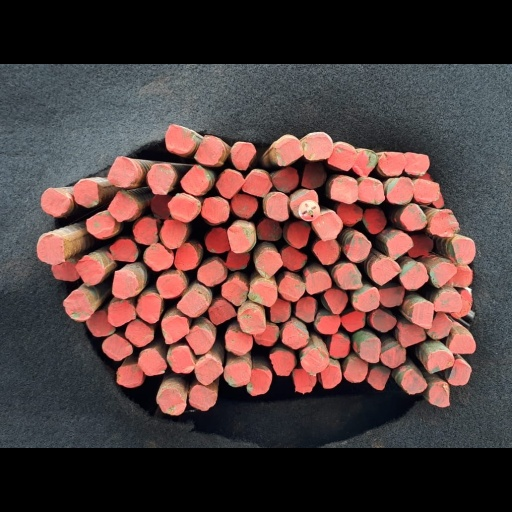dipstick: (63, 289, 93, 322), (107, 156, 138, 187), (193, 134, 223, 166), (108, 191, 138, 222), (176, 289, 208, 318), (75, 255, 105, 285), (169, 193, 200, 222), (40, 187, 70, 216), (36, 234, 65, 264), (180, 165, 209, 195), (185, 326, 214, 355), (165, 124, 194, 153), (147, 164, 175, 194), (143, 243, 173, 271), (137, 347, 167, 375), (429, 209, 459, 237), (242, 170, 273, 197), (302, 133, 333, 160), (159, 219, 187, 248), (161, 315, 189, 344), (166, 345, 195, 373), (216, 170, 244, 199), (274, 138, 303, 166), (290, 189, 318, 218), (371, 257, 400, 285), (399, 261, 427, 290), (86, 310, 116, 337), (135, 293, 162, 323), (125, 320, 155, 347), (312, 212, 342, 239), (102, 334, 133, 360), (255, 251, 283, 279), (157, 388, 186, 415), (194, 357, 223, 384), (197, 260, 227, 286), (112, 270, 139, 298), (330, 176, 358, 203), (224, 330, 253, 356), (248, 281, 277, 307), (264, 192, 290, 221), (345, 233, 370, 263), (357, 178, 384, 205), (387, 177, 414, 204), (425, 312, 452, 339), (107, 301, 135, 327), (221, 278, 247, 306), (228, 224, 254, 252), (271, 166, 299, 192), (277, 276, 305, 302), (329, 143, 355, 171), (385, 233, 413, 259), (208, 300, 237, 325), (86, 214, 116, 238), (73, 180, 99, 207), (238, 308, 265, 334), (335, 263, 362, 289), (400, 204, 427, 230), (429, 261, 456, 287), (189, 385, 217, 410), (201, 197, 229, 222), (301, 348, 329, 373), (246, 369, 272, 395), (449, 238, 475, 264), (174, 243, 199, 270), (282, 324, 309, 349), (231, 193, 258, 218), (286, 221, 311, 248), (352, 149, 377, 176), (379, 151, 406, 176), (352, 286, 379, 311), (231, 142, 255, 170), (156, 274, 185, 297), (116, 364, 145, 387), (313, 239, 339, 264), (300, 163, 325, 189), (371, 308, 397, 333), (133, 217, 157, 244), (447, 358, 471, 385), (223, 363, 251, 386), (426, 350, 454, 373), (205, 227, 229, 253), (281, 246, 307, 270), (413, 178, 439, 202), (401, 369, 427, 393), (380, 344, 406, 368), (399, 324, 426, 347), (110, 239, 138, 261), (411, 302, 433, 330), (434, 290, 462, 312), (269, 351, 294, 375), (408, 233, 433, 257), (256, 218, 282, 241), (324, 289, 347, 315), (336, 202, 362, 225), (344, 358, 368, 382), (306, 271, 331, 294), (363, 208, 386, 233), (404, 152, 429, 175), (253, 324, 279, 346), (448, 264, 473, 286), (270, 297, 291, 323), (295, 296, 316, 322), (51, 261, 79, 280), (293, 368, 316, 391), (368, 366, 390, 390), (151, 194, 172, 219), (428, 382, 449, 407), (378, 286, 404, 306), (359, 337, 379, 363), (320, 364, 341, 388), (341, 311, 365, 332), (451, 295, 472, 319), (329, 333, 349, 358), (449, 334, 475, 353), (226, 250, 250, 270), (316, 315, 340, 334)
